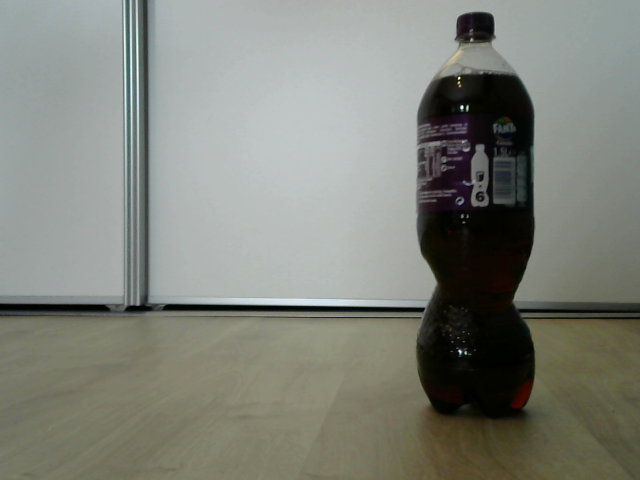bottle: (416, 12, 535, 418)
